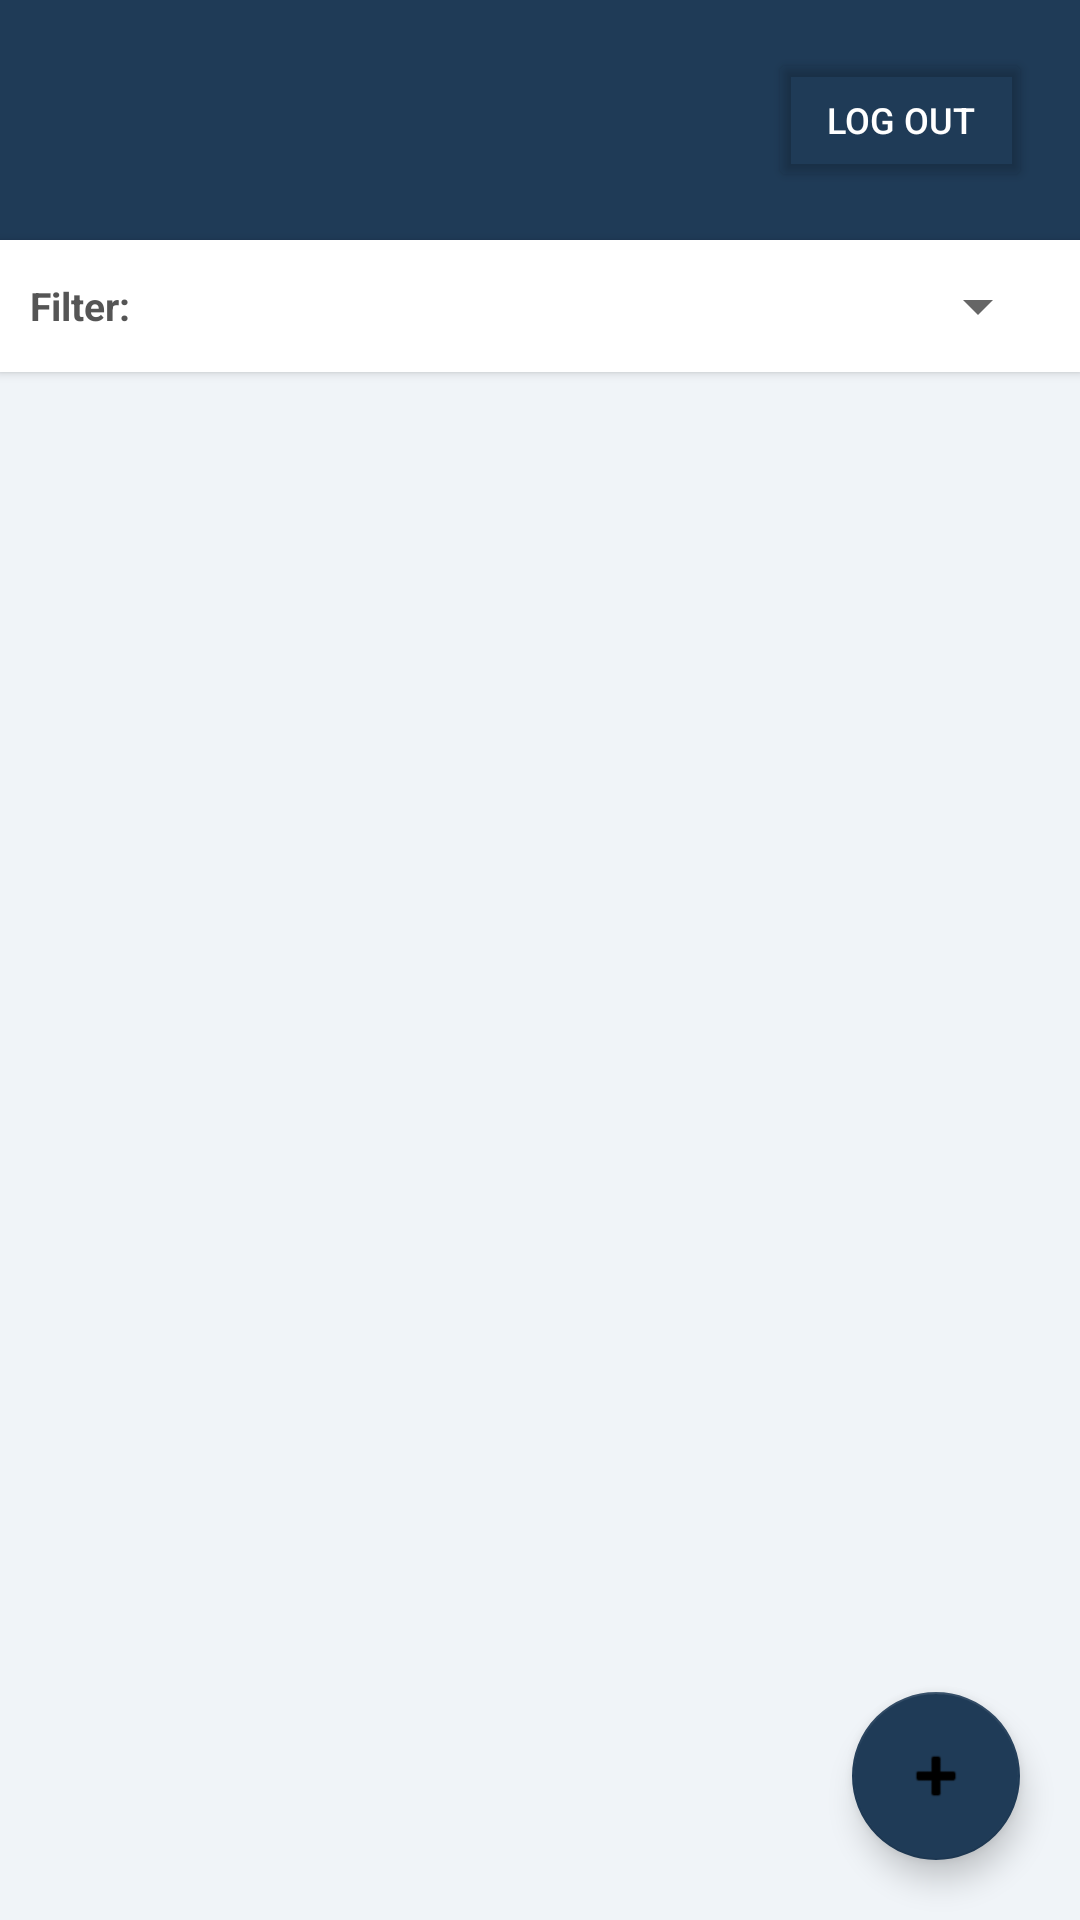

Icons on this 1080×1920 Android screen, each with the point to tap as point (x, y):
Add Expense: point (936, 1776)
